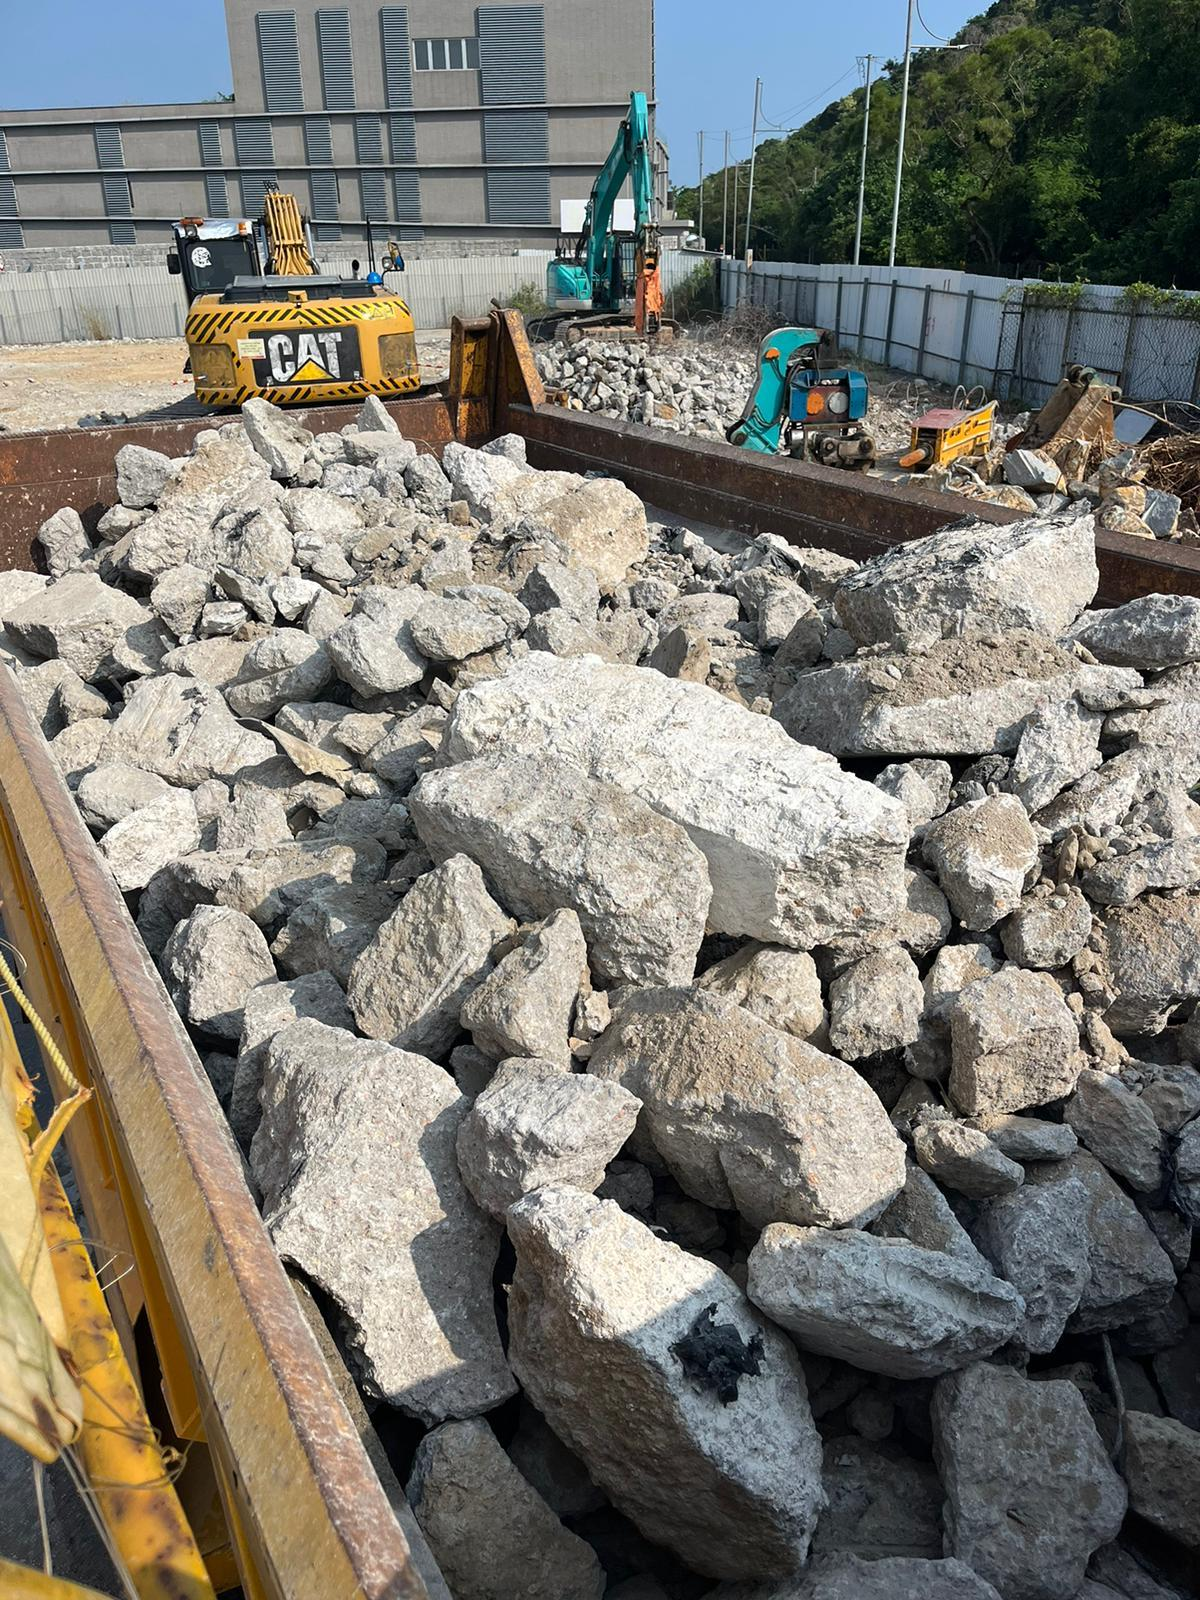dry: (3, 407, 1200, 1595)
